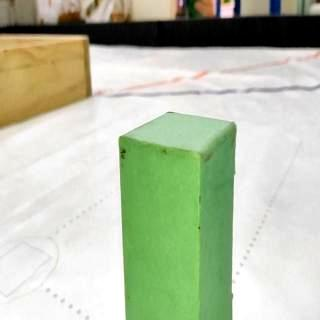greenbox: (117, 109, 240, 320)
